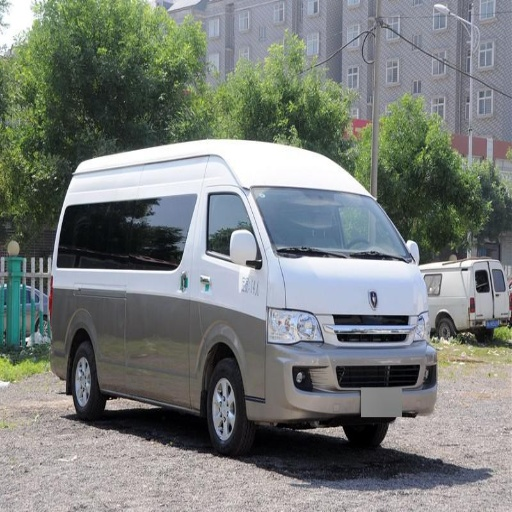front_bumper: (247, 313, 437, 423)
front_glass: (257, 188, 406, 261)
front_right_door: (201, 180, 267, 307)
front_right_light: (269, 310, 323, 343)
hood: (288, 259, 425, 315)
trunk: (45, 275, 257, 394)
